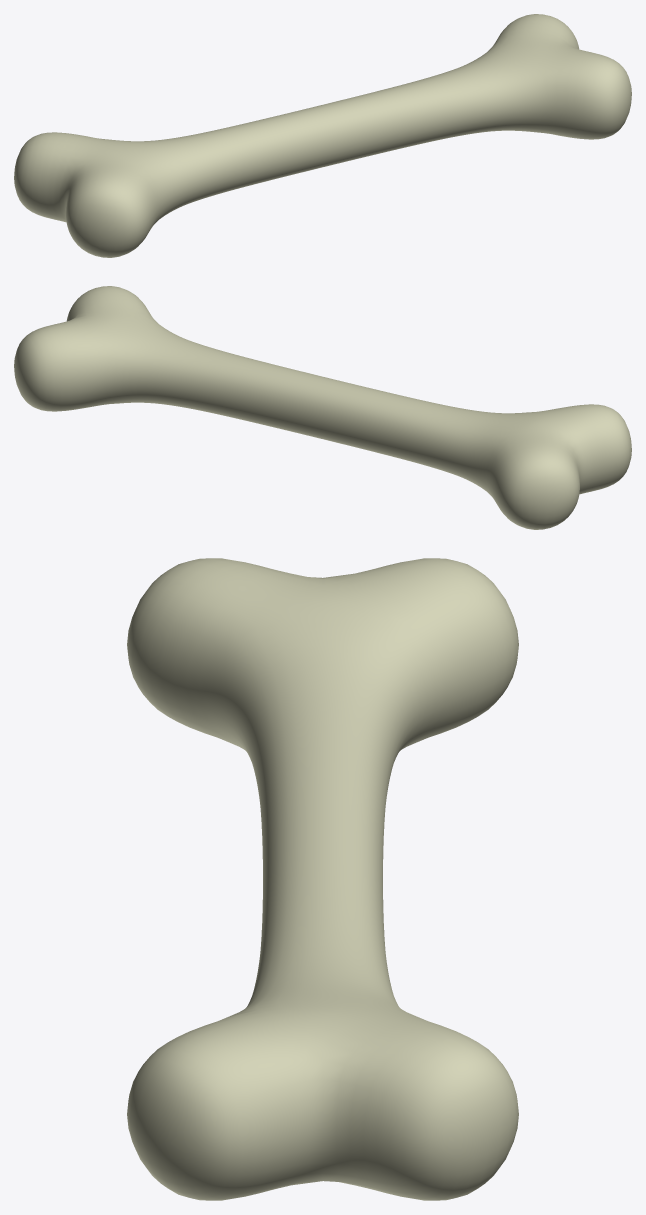
The model's file is bone.fbx.
The picture shows the model from 3 angles, top to bottom: view 1: azimuth 30°, elevation 25°; view 2: azimuth 150°, elevation 25°; view 3: azimuth 270°, elevation 25°; orthographic projection. The views are drawn at different scales.
Parts seen in each view (by area): view 1: Box001; view 2: Box001; view 3: Box001.
Boxes of the visible parts, x1,y1,x2,y2 form: Box001: [14, 14, 631, 257]; Box001: [14, 286, 631, 529]; Box001: [127, 558, 518, 1200].
Bounding box in the file's own units: 30.91 × 4.06 × 9.41.
